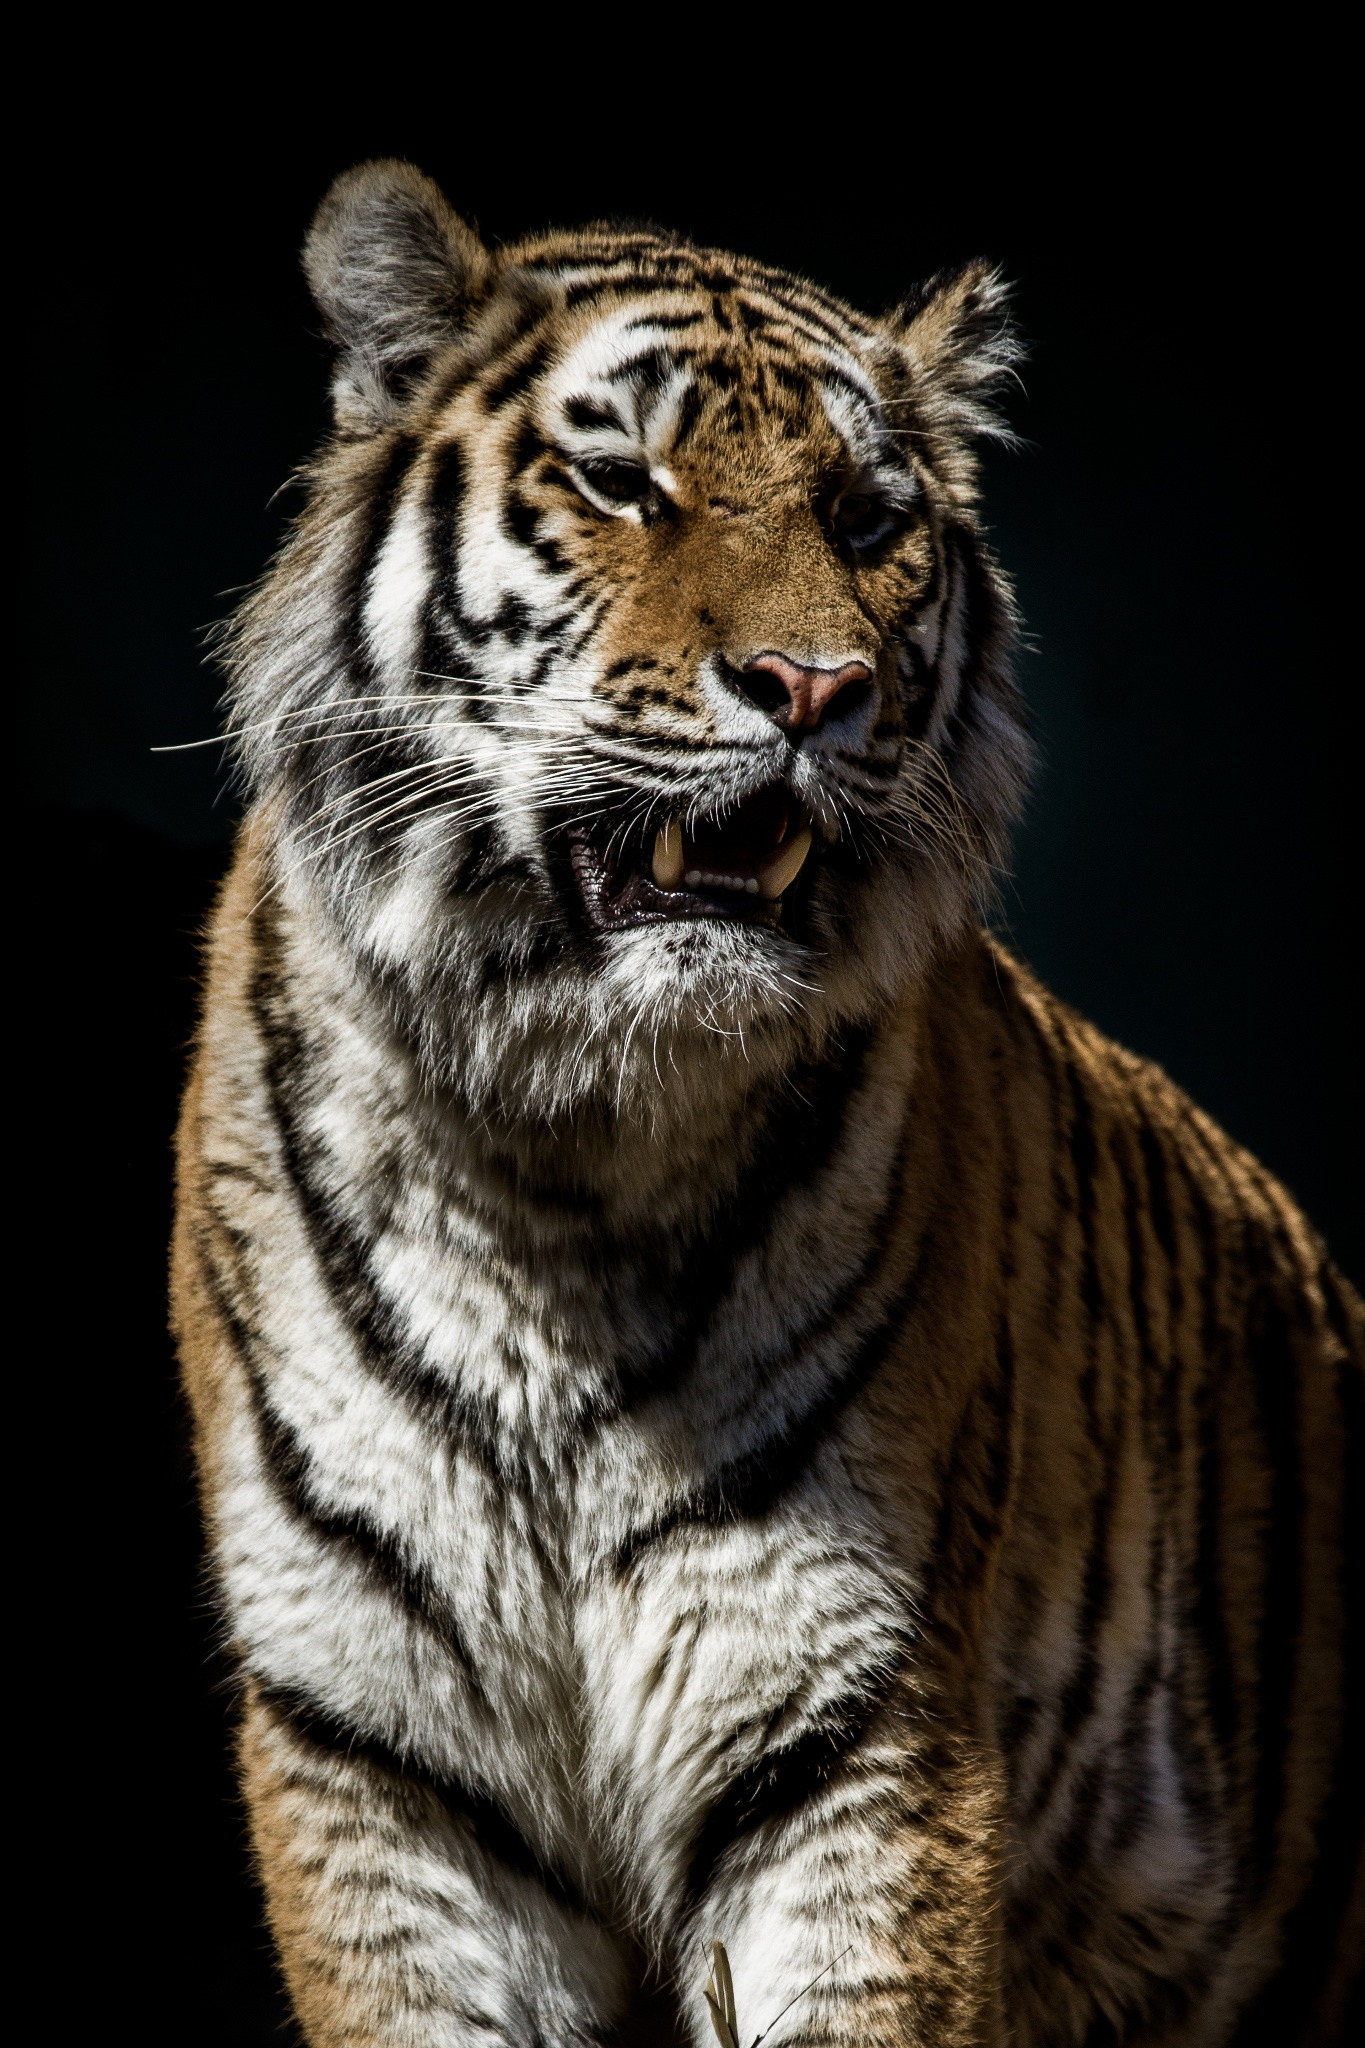tiger: (204, 139, 1239, 1986)
